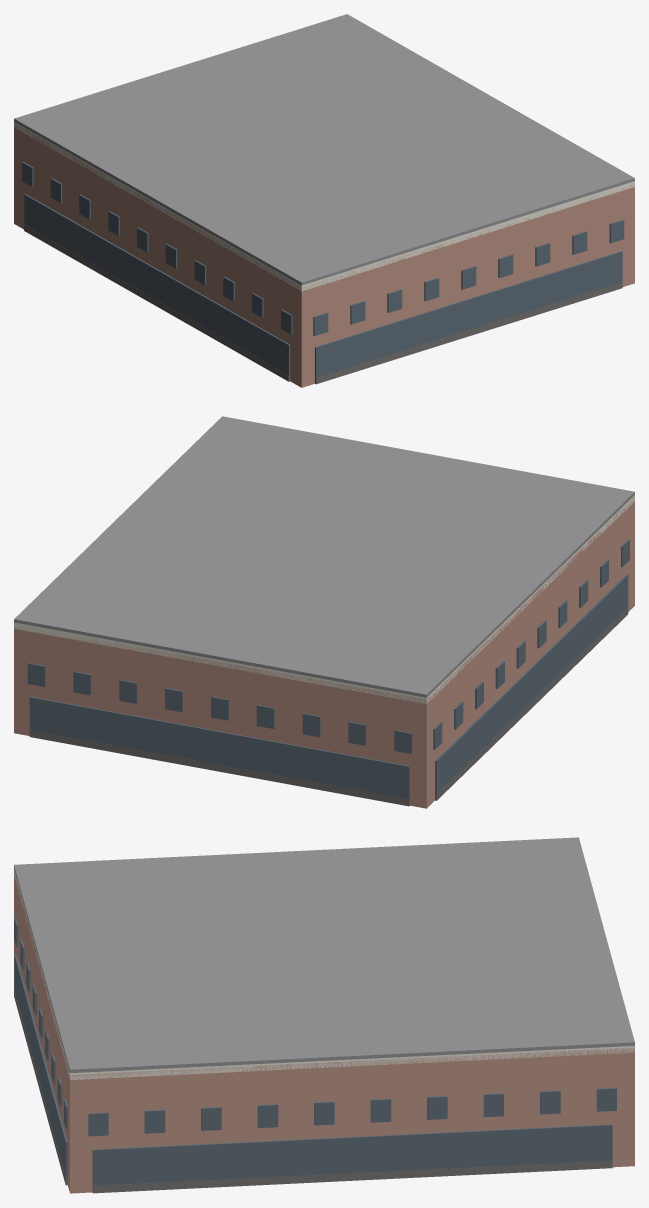
The model's file is s16_gis_247933_820644.glb.
3 views of the same model, one above another, from view 1: azimuth 30°, elevation 25°; view 2: azimuth 150°, elevation 25°; view 3: azimuth 270°, elevation 25° (orthographic). The views are drawn at different scales.
Parts seen in each view (by area): view 1: roofcap, mass, store_0, store_3, cornice, bulk_0, bulk_3; view 2: roofcap, mass, store_2, store_3, cornice, bulk_2, bulk_3; view 3: roofcap, mass, store_1, cornice, bulk_1, store_0, bulk_0, win_1_0_1, win_1_0_3, win_1_0_5.
Boxes of the visible parts, x1=… form: roofcap: x1=14, y1=14, x2=634, y2=285; mass: x1=14, y1=124, x2=634, y2=387; store_0: x1=315, y1=251, x2=622, y2=377; store_3: x1=24, y1=194, x2=290, y2=378; cornice: x1=14, y1=121, x2=634, y2=291; bulk_0: x1=315, y1=282, x2=622, y2=384; bulk_3: x1=24, y1=224, x2=290, y2=381; roofcap: x1=14, y1=416, x2=634, y2=697; mass: x1=14, y1=498, x2=634, y2=808; store_2: x1=29, y1=696, x2=409, y2=801; store_3: x1=435, y1=574, x2=628, y2=793; cornice: x1=14, y1=495, x2=634, y2=703; bulk_2: x1=29, y1=730, x2=409, y2=806; bulk_3: x1=435, y1=608, x2=628, y2=800; roofcap: x1=14, y1=837, x2=634, y2=1073; mass: x1=14, y1=873, x2=634, y2=1193; store_1: x1=92, y1=1124, x2=612, y2=1189; cornice: x1=14, y1=869, x2=634, y2=1079; bulk_1: x1=92, y1=1160, x2=612, y2=1193; store_0: x1=14, y1=954, x2=67, y2=1180; bulk_0: x1=14, y1=989, x2=67, y2=1185; win_1_0_1: x1=144, y1=1109, x2=165, y2=1133; win_1_0_3: x1=257, y1=1104, x2=278, y2=1128; win_1_0_5: x1=370, y1=1098, x2=391, y2=1122.
Size of the model in its own units: 33.61 by 8.35 by 37.95.
